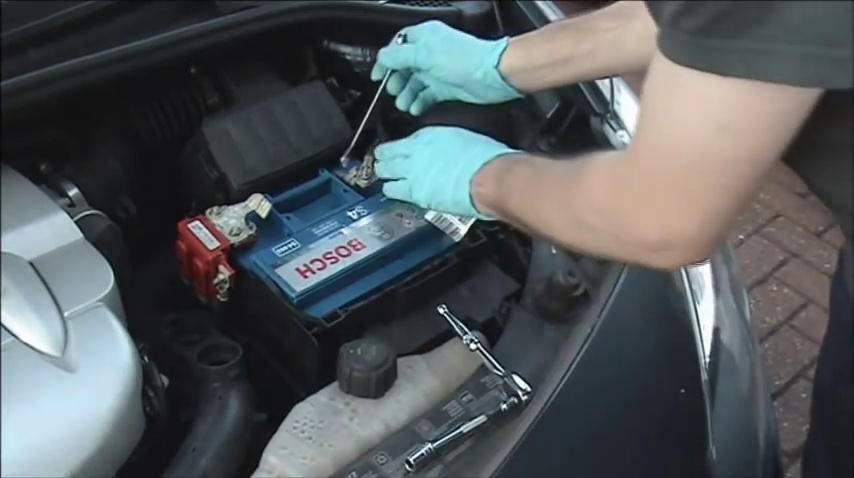battery: (179, 151, 452, 318)
neg_touched: (339, 46, 447, 216)
pos_connected: (177, 185, 274, 298)
